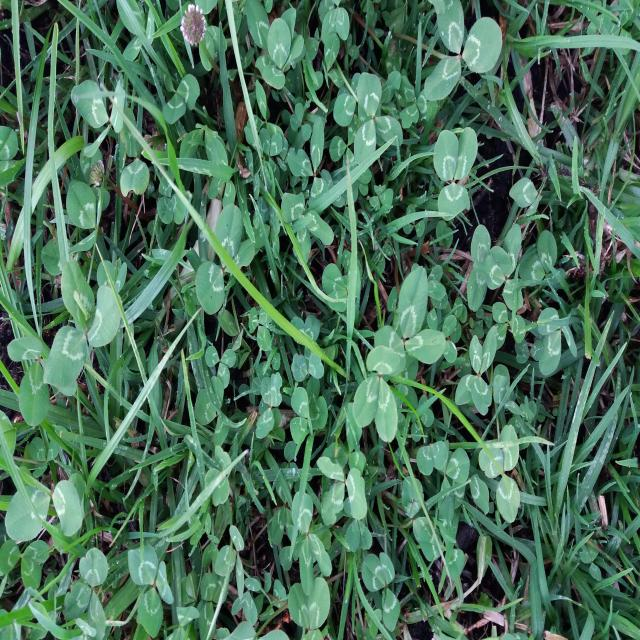Four Leaf Clover: (455, 326, 497, 416)
